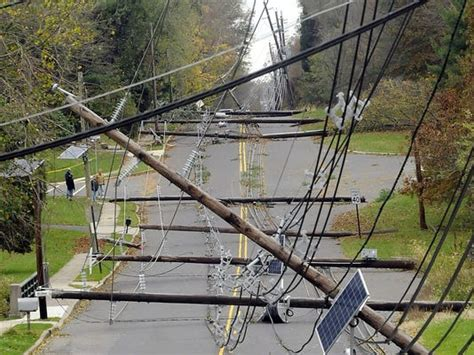pole: (239, 160, 346, 307), (253, 1, 304, 104)
